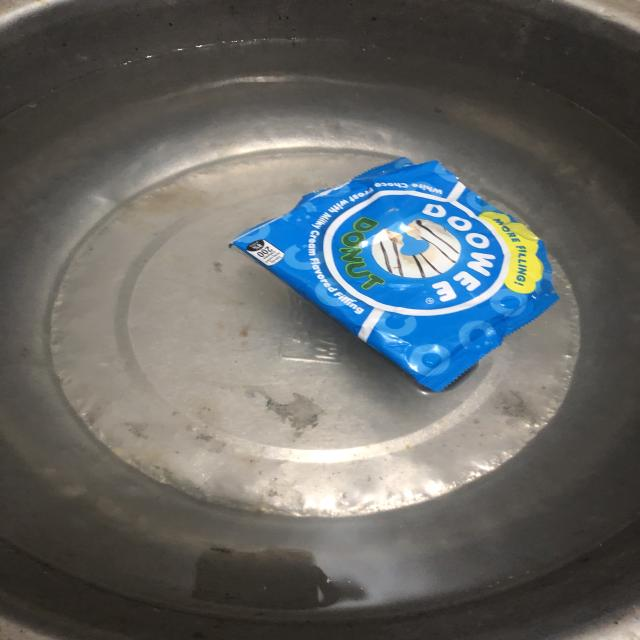Plastic Wrapper: (231, 158, 559, 391)
